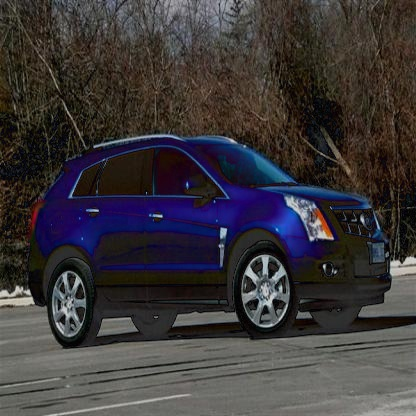Vehicle: (29, 136, 392, 351)
